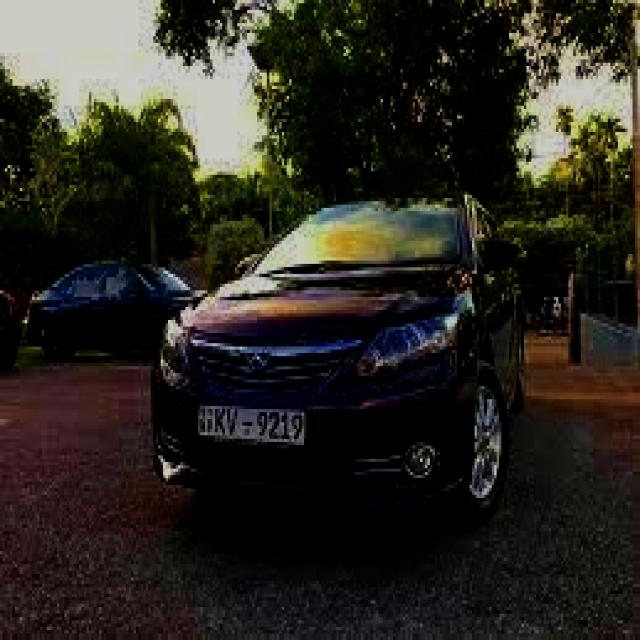black: (29, 264, 198, 356)
maroon: (156, 196, 526, 523)
